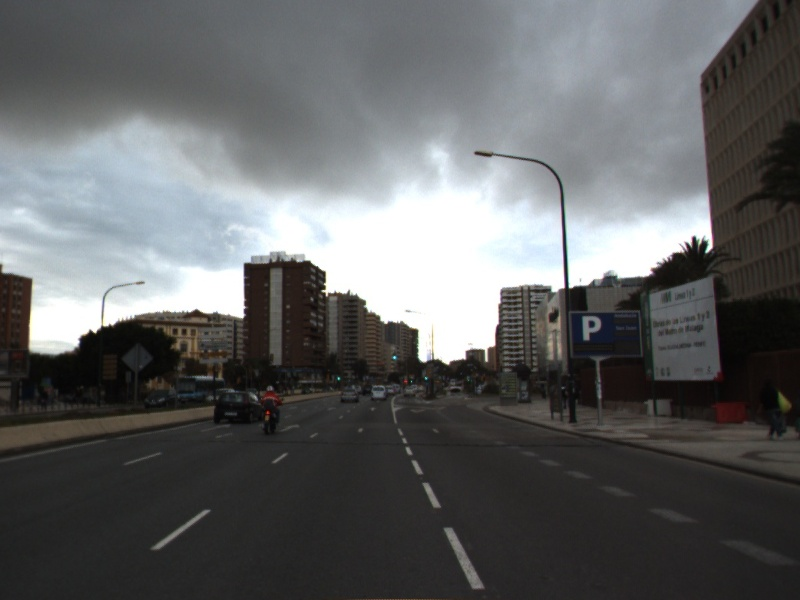STRAIGHT: (198, 421, 233, 434), (276, 421, 302, 433)
